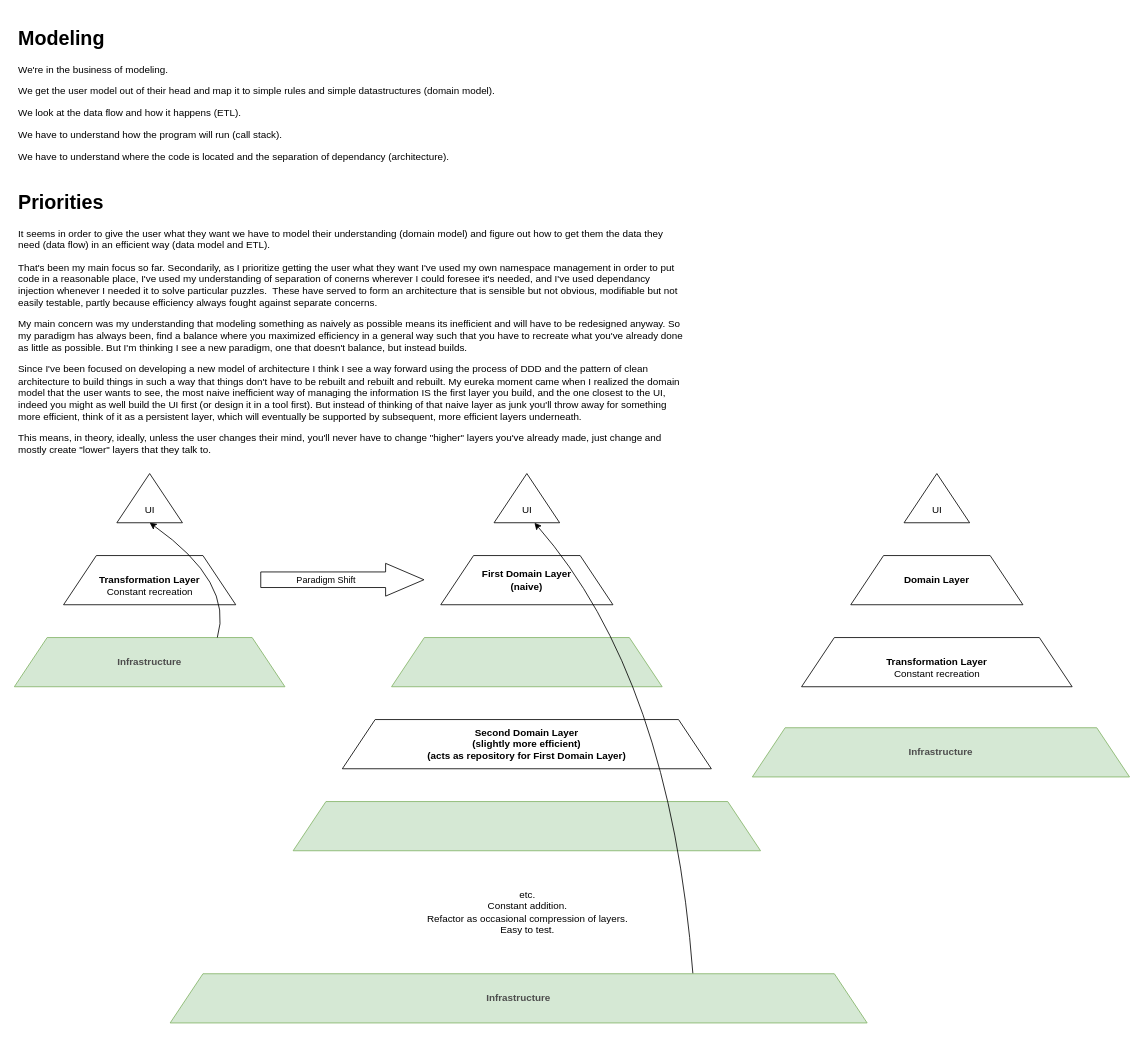
Image size: 1144x1037. Some labels were removed from this diagram. The shapes that lost their labels are listed below. From the top down, each one's centre as x and y in pixels, then its label:
point 526,662: Infrastructure Interface for First Domain Layer
point 526,826: Infrastructure Interface for Second Domain Layer
